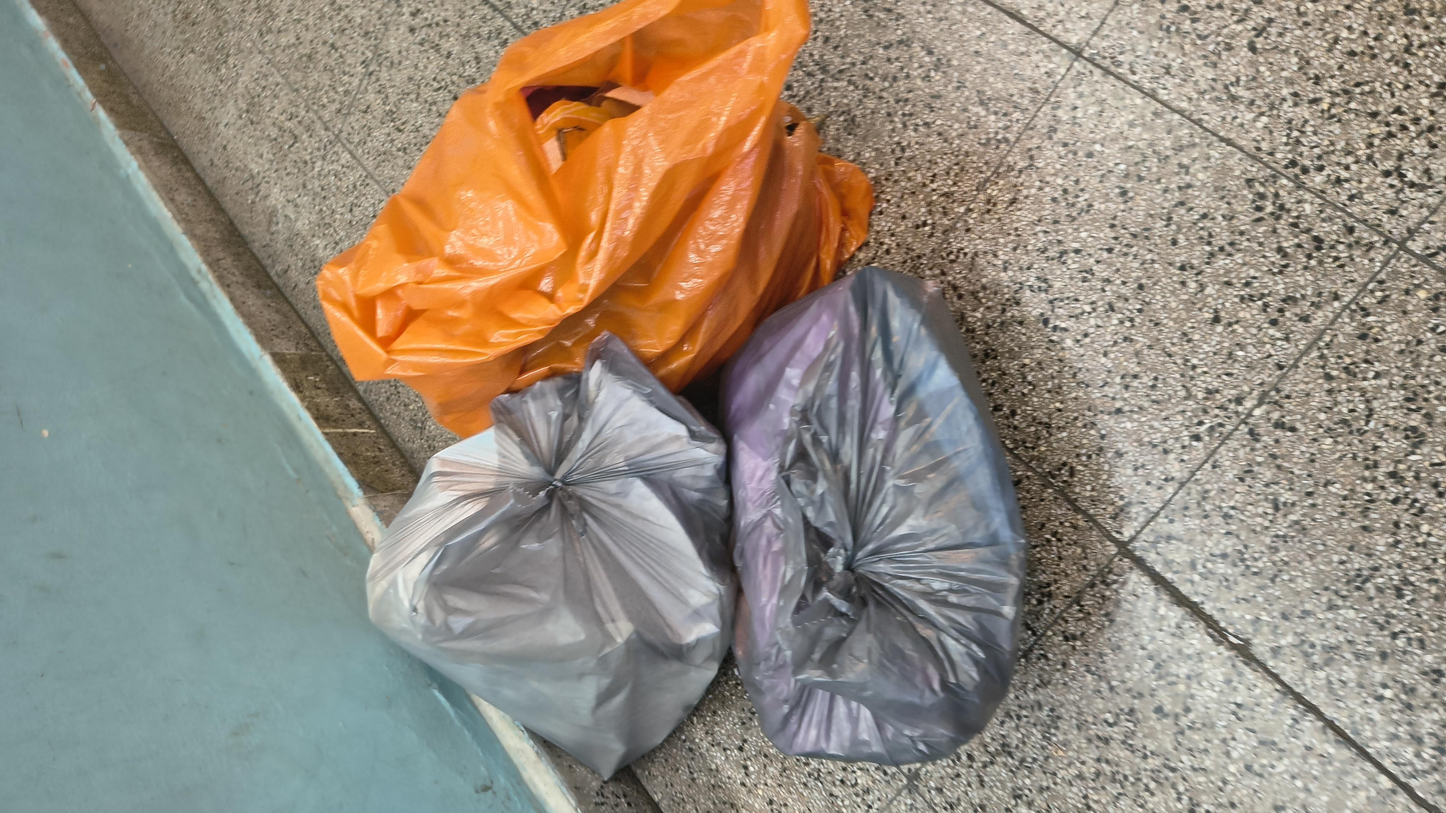Garbage: (602, 167, 1446, 512), (44, 200, 967, 435), (82, 401, 948, 593)
